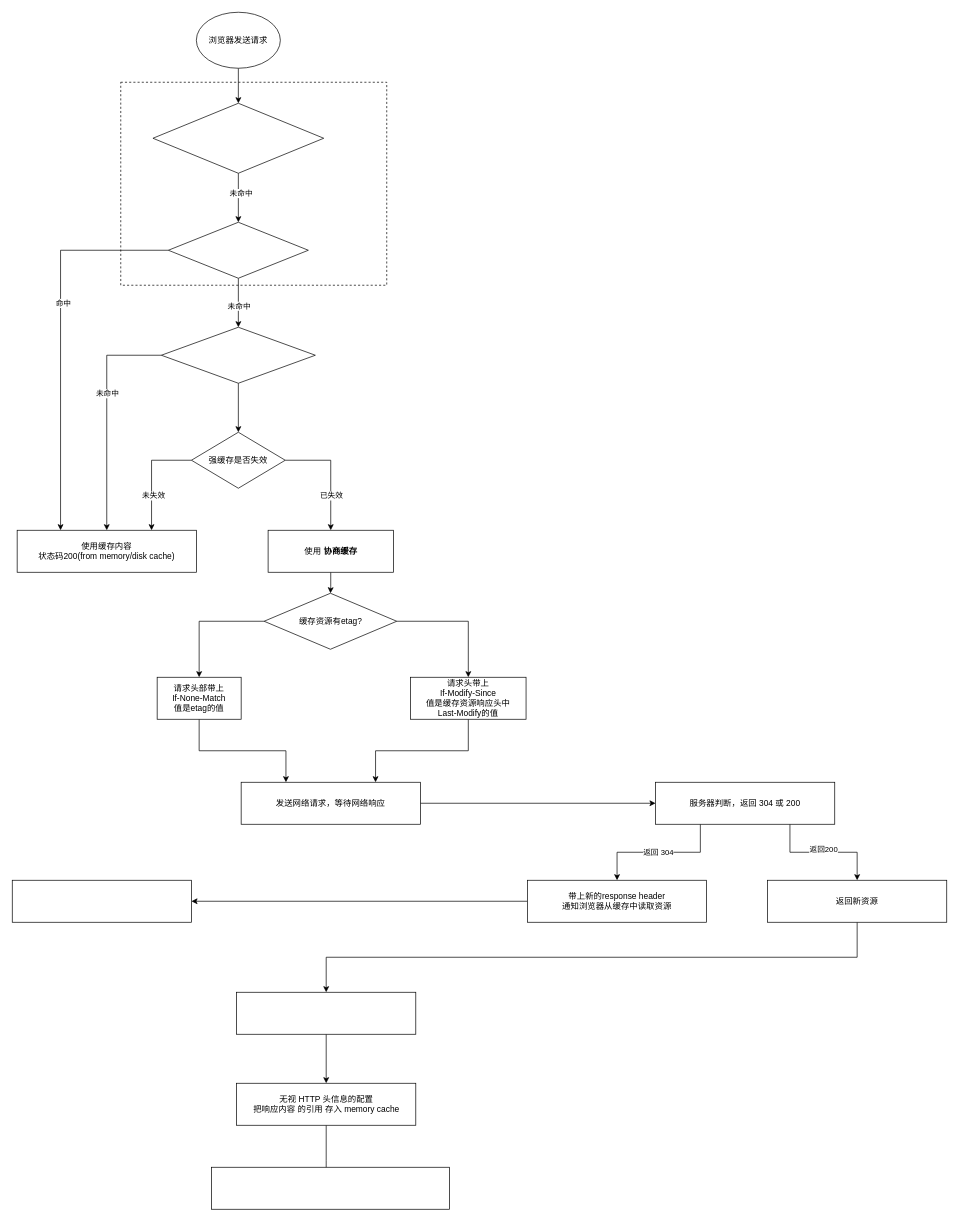
The diagram is 959 pixels wide and 1222 high, and some of its shapes have lost their labels. Each missing label, with the centre of its shape:
"使用缓存内容 状态码304" belongs at pixel 101 901.
"命中 Service Worker 缓存？ (通过 Service Worker Handler 判断 )" belongs at pixel 238 138.
"命中memory cache? （只在该tab周期中存在，刷新就没）" belongs at pixel 238 250.
"如果 HTTP 响应头指示缓存的话 把响应内容存入 disk cache" belongs at pixel 326 1013.
"如果 Service Worker 的脚本调用了 cache.put() 把响应内容存入 Service Worker 的 Cache Storage" belongs at pixel 330 1188.
"强缓存 Expires(过期时间戳) || Cache-Control:max-age=500(过期时长)" belongs at pixel 238 355.
